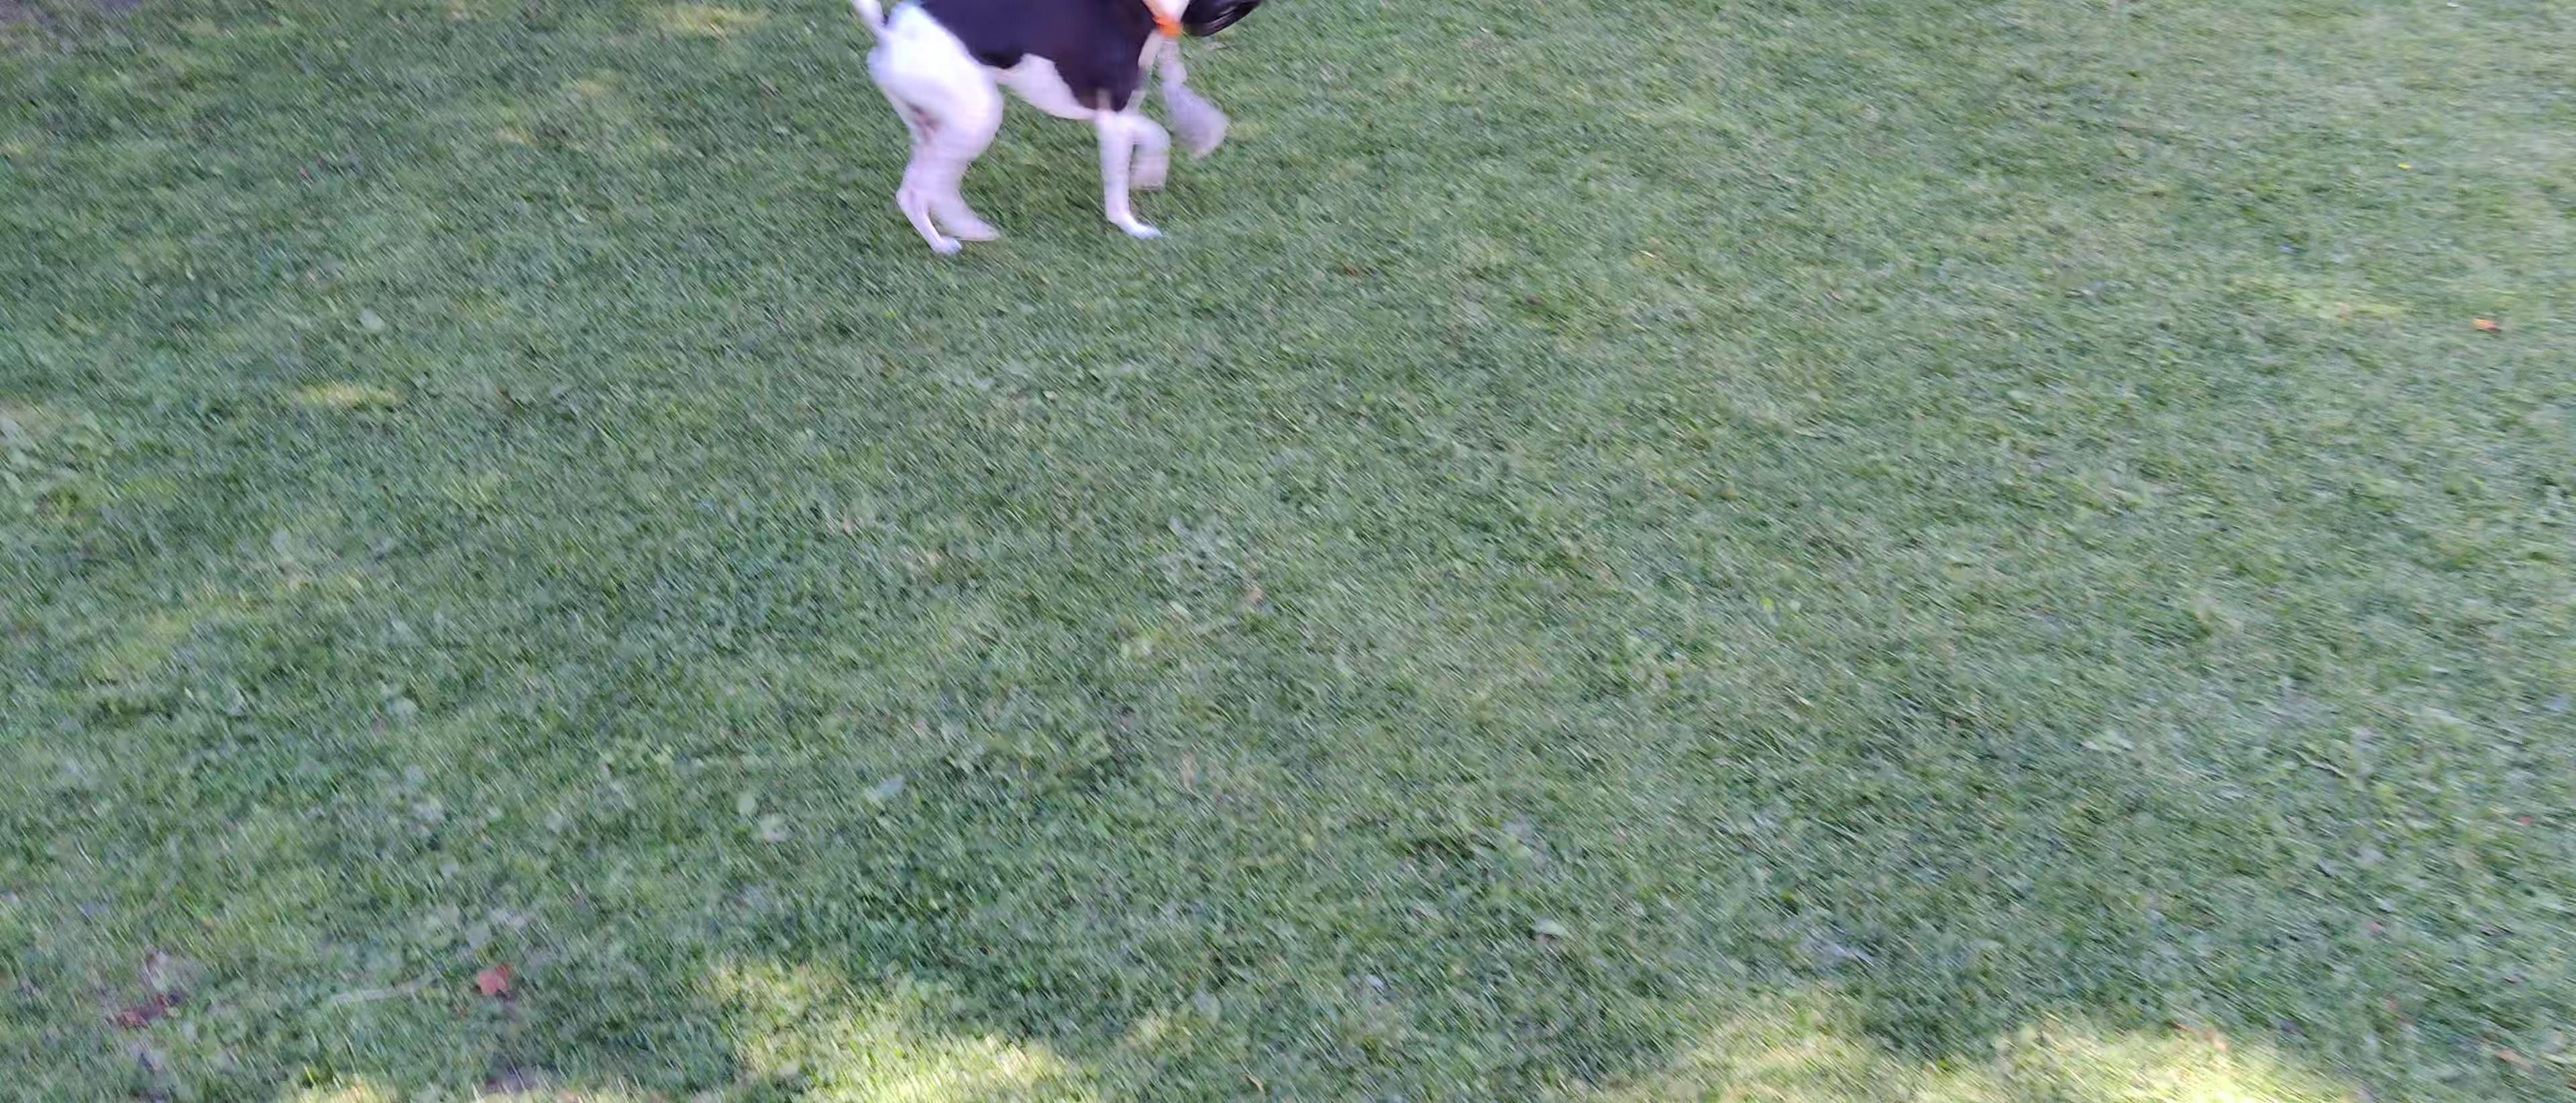Dog: (838, 0, 1206, 258)
